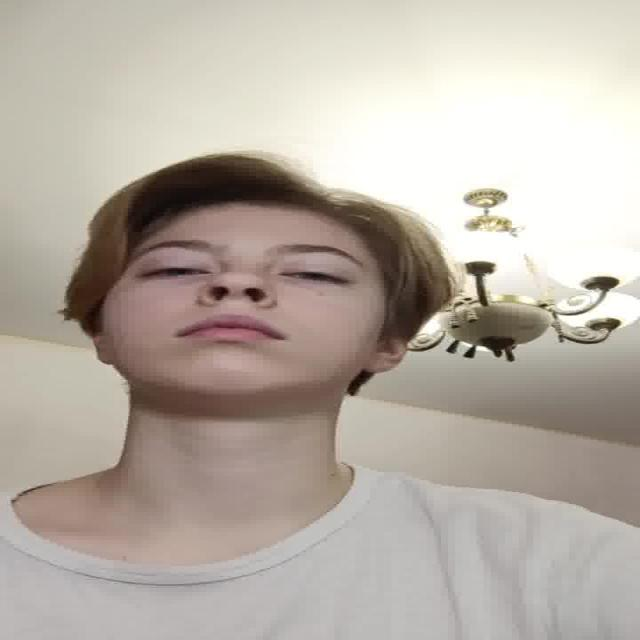earlobe: (363, 335, 410, 372)
